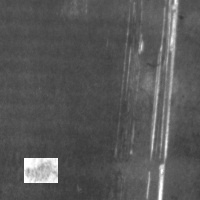patches: (24, 158, 58, 183)
scratches: (145, 1, 180, 199), (122, 28, 145, 76)
